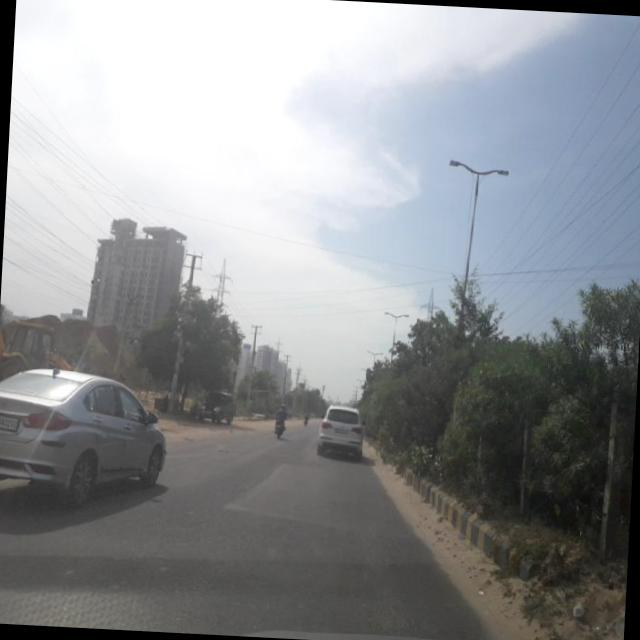crack: (138, 477, 460, 638)
